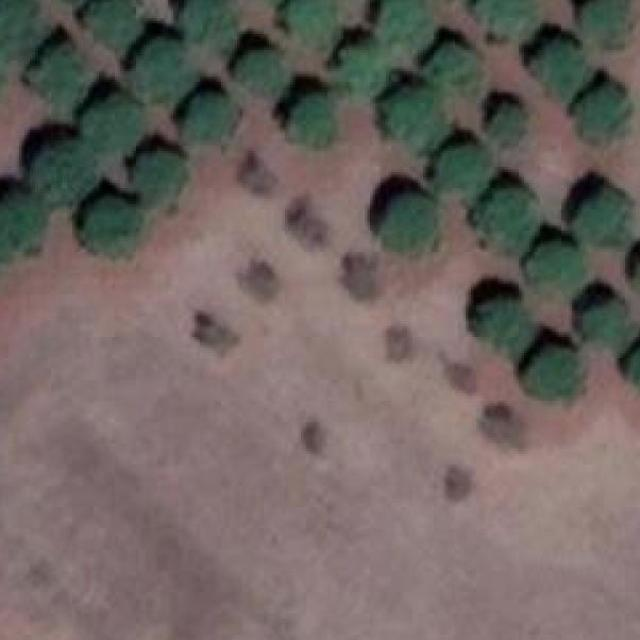Tree: (24, 138, 99, 223), (365, 176, 442, 255), (428, 140, 501, 208), (131, 34, 198, 106), (78, 89, 144, 162), (77, 192, 142, 260), (178, 87, 242, 151), (383, 82, 444, 149), (30, 40, 91, 106), (479, 192, 538, 260), (364, 0, 433, 58), (524, 239, 591, 298), (0, 191, 49, 266), (575, 289, 632, 351), (575, 82, 632, 140), (570, 188, 634, 239), (227, 48, 288, 101), (476, 294, 530, 353), (285, 90, 336, 147), (522, 346, 575, 398), (184, 0, 237, 52), (532, 34, 586, 85), (83, 0, 141, 45), (335, 40, 386, 90), (434, 45, 479, 101), (134, 148, 182, 199), (471, 0, 532, 39), (0, 0, 44, 50), (288, 0, 336, 45), (579, 0, 629, 41), (490, 100, 527, 151), (627, 252, 640, 294)
